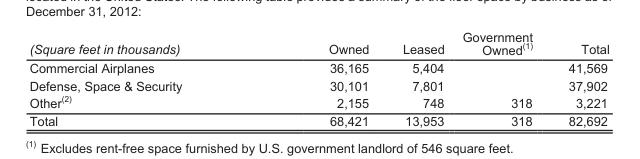table: (28, 29, 608, 128)
table column: (28, 29, 254, 128), (254, 29, 385, 128), (452, 29, 549, 128), (385, 29, 452, 128), (549, 29, 608, 128)
table column header: (28, 29, 608, 58)
table row: (28, 29, 608, 58), (28, 58, 608, 76), (28, 93, 608, 111), (28, 76, 608, 93), (28, 111, 608, 128)
